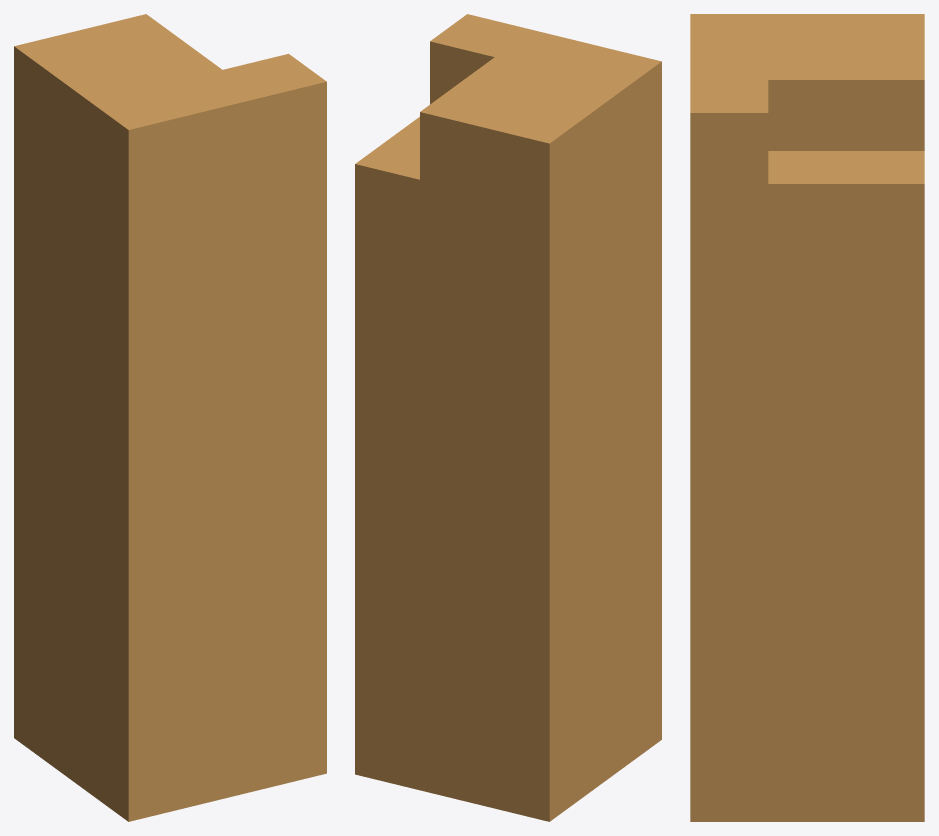
Rendered from lion__leg_fr.glb.
3 renders of one model, left to right at view 1: azimuth 30°, elevation 25°; view 2: azimuth 150°, elevation 25°; view 3: azimuth 270°, elevation 25°, orthographic. The views are drawn at different scales.
Visible parts, largest first — view 1: lion__leg_fr; view 2: lion__leg_fr; view 3: lion__leg_fr.
Part boxes in pixels (bbox=[...]): lion__leg_fr: bbox=[14, 14, 326, 821]; lion__leg_fr: bbox=[355, 14, 661, 821]; lion__leg_fr: bbox=[690, 14, 924, 821].
Size of the model in its own units: 0.3 by 1 by 0.3.
1 material, 1 textured.
